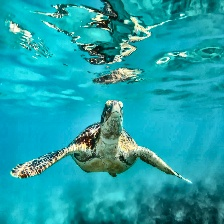seaturtle: (69, 100, 193, 184)
